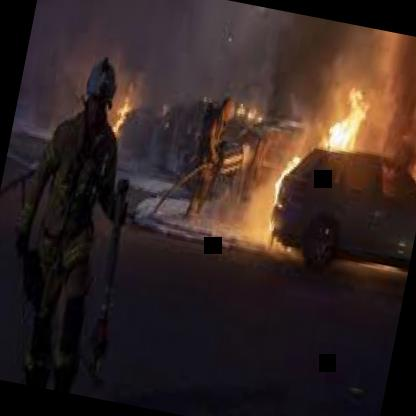fire: (241, 63, 416, 276)
